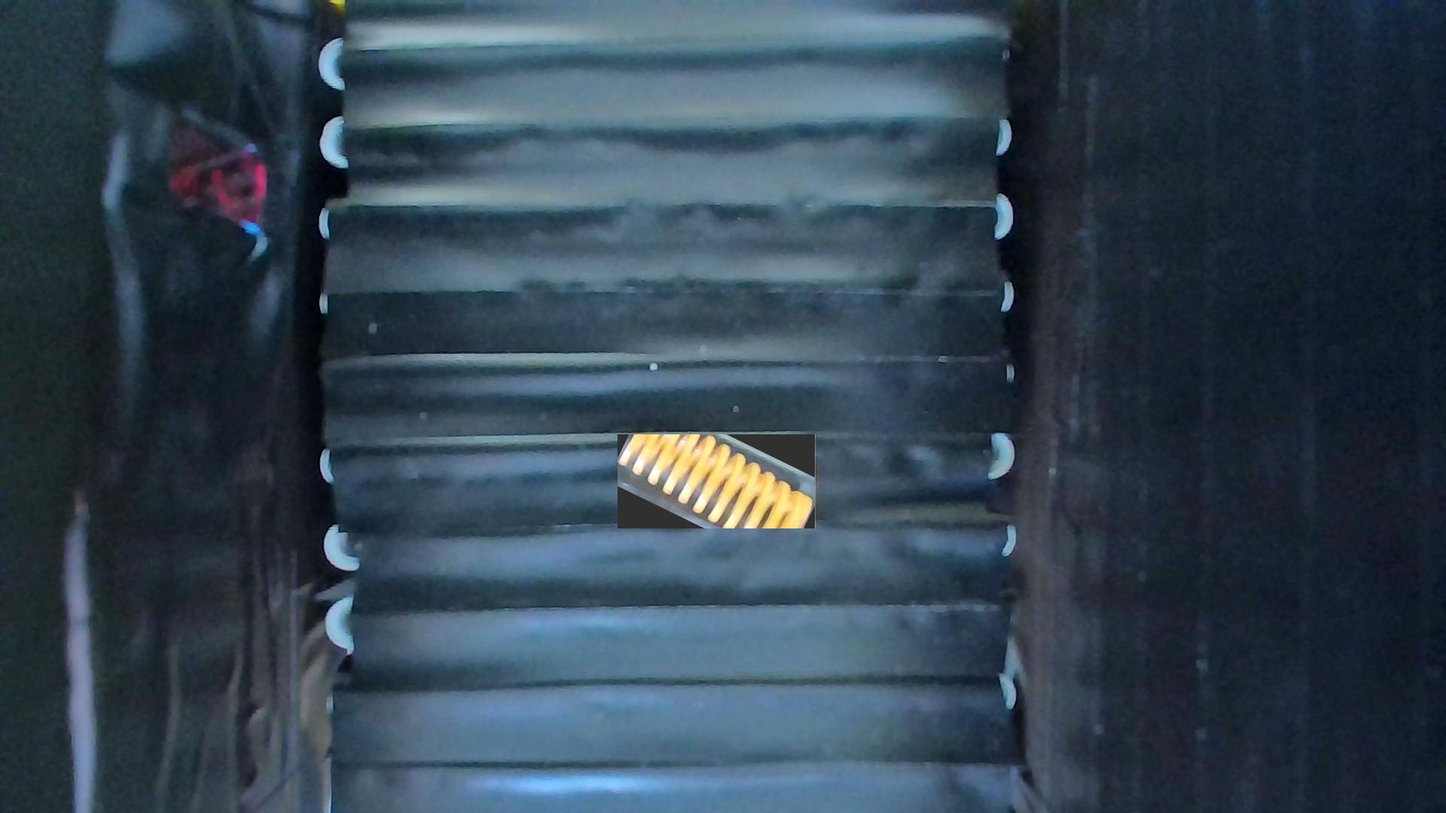spring: (618, 434, 816, 529)
